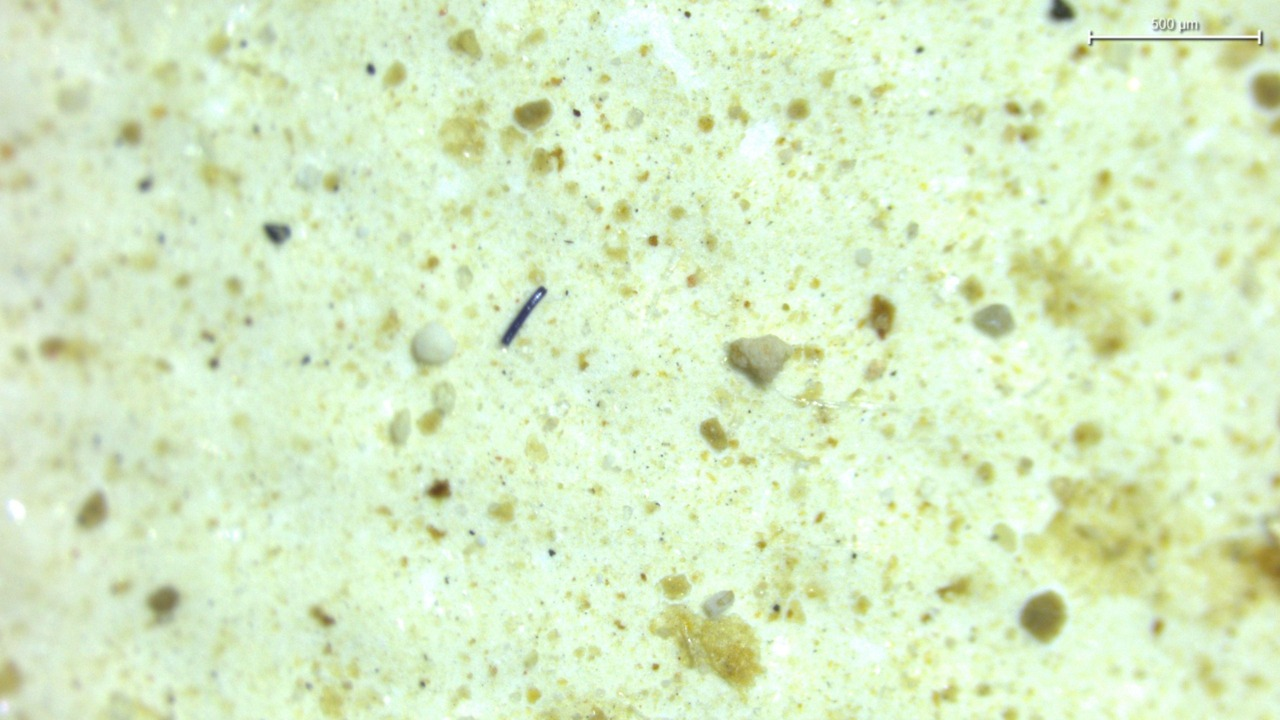microplastic_fragment: (727, 335, 792, 386), (412, 322, 455, 364)
